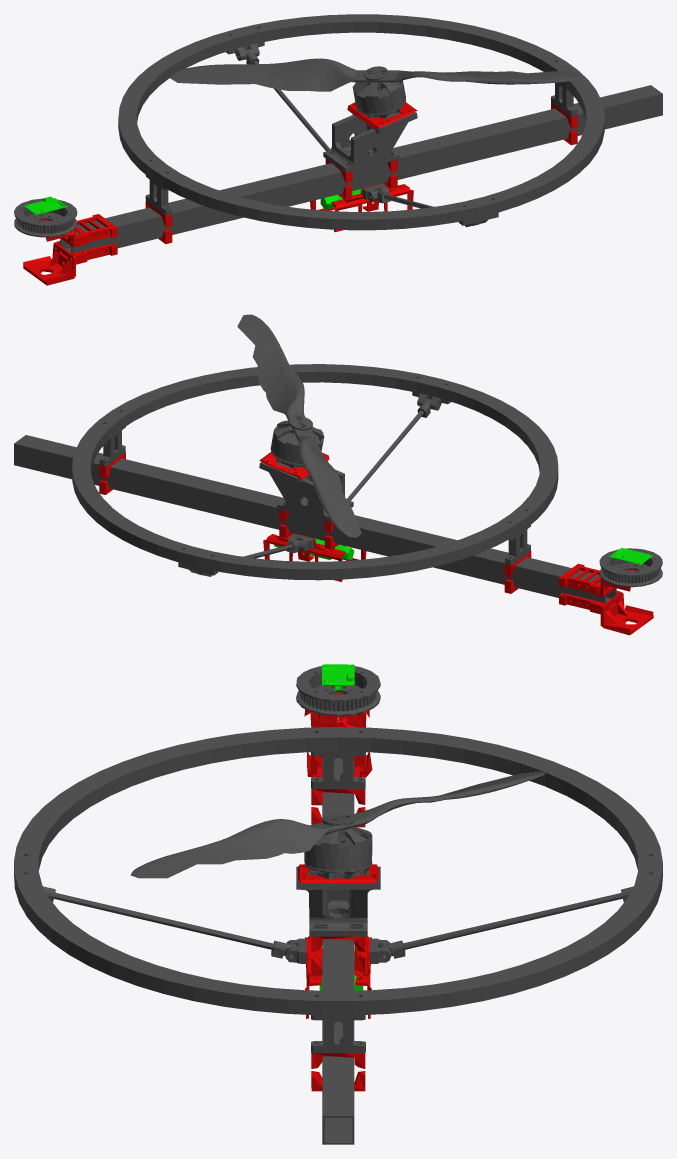
The model's file is tilt_10deg_15inch_fix_joint_link2.dae.
3 views of the same model, one above another, from view 1: azimuth 30°, elevation 25°; view 2: azimuth 150°, elevation 25°; view 3: azimuth 270°, elevation 25° (orthographic). The views are drawn at different scales.
Visible parts, largest first — view 1: link2_tilt_fixed_joint_15inch_black, link2_tilt_fixed_joint_15inch_red, link2_fix_joint_green_002; view 2: link2_tilt_fixed_joint_15inch_black, link2_tilt_fixed_joint_15inch_red, link2_fix_joint_green_002; view 3: link2_tilt_fixed_joint_15inch_black, link2_tilt_fixed_joint_15inch_red, link2_fix_joint_green_002.
Part boxes in pixels (x1,y1,x2,y2): link2_tilt_fixed_joint_15inch_black: (14,14,662,254); link2_tilt_fixed_joint_15inch_red: (23,102,577,285); link2_fix_joint_green_002: (24,189,366,214); link2_tilt_fixed_joint_15inch_black: (14,314,662,605); link2_tilt_fixed_joint_15inch_red: (99,452,653,635); link2_fix_joint_green_002: (274,536,652,564); link2_tilt_fixed_joint_15inch_black: (14,666,662,1144); link2_tilt_fixed_joint_15inch_red: (298,693,378,1091); link2_fix_joint_green_002: (319,664,363,990).
Size of the model in its own units: 0.6066 by 0.4 by 0.1437.
